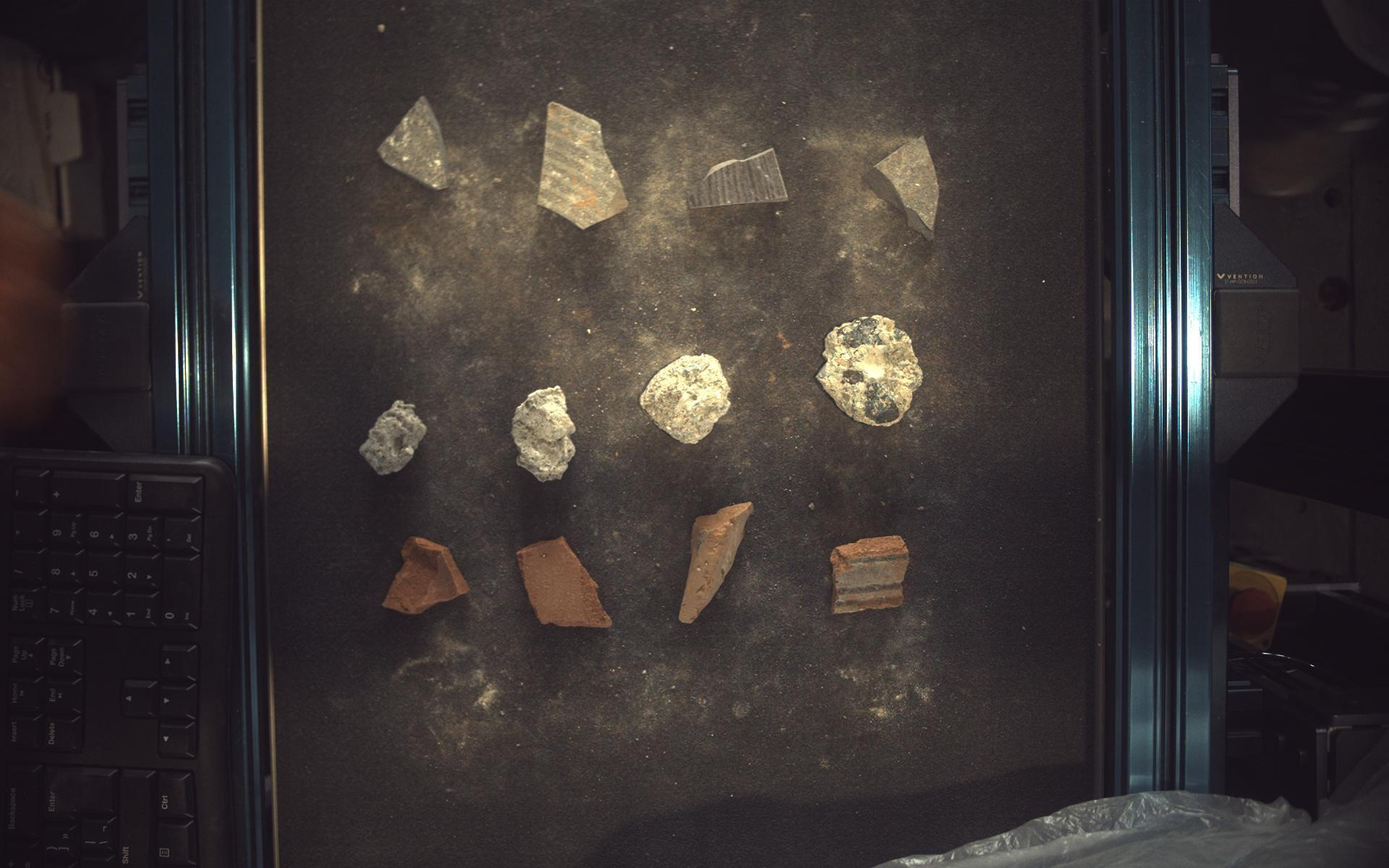brick: (679, 503, 755, 625), (517, 537, 613, 629), (383, 537, 470, 615), (832, 537, 911, 615)
concrete: (817, 315, 924, 427), (641, 354, 732, 444), (512, 386, 576, 482), (360, 400, 427, 475)
tile: (538, 101, 629, 229), (865, 135, 941, 239), (378, 95, 449, 189), (689, 148, 789, 208)
